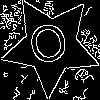O: (26, 20, 74, 75)
